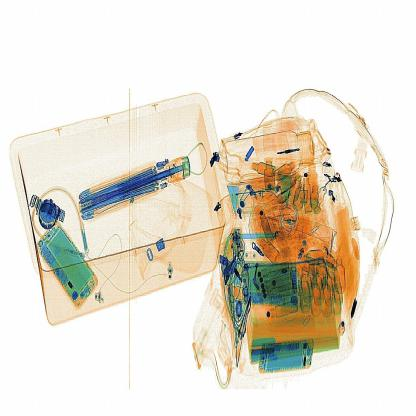pliers: (234, 226, 289, 243)
